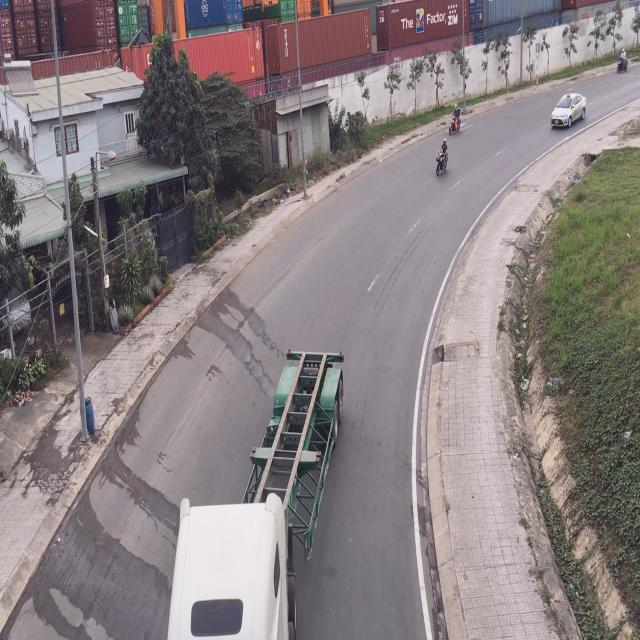car: (549, 93, 586, 132)
motorbike: (436, 137, 451, 179), (449, 102, 464, 136), (618, 47, 629, 76)
truck: (174, 349, 343, 640)
